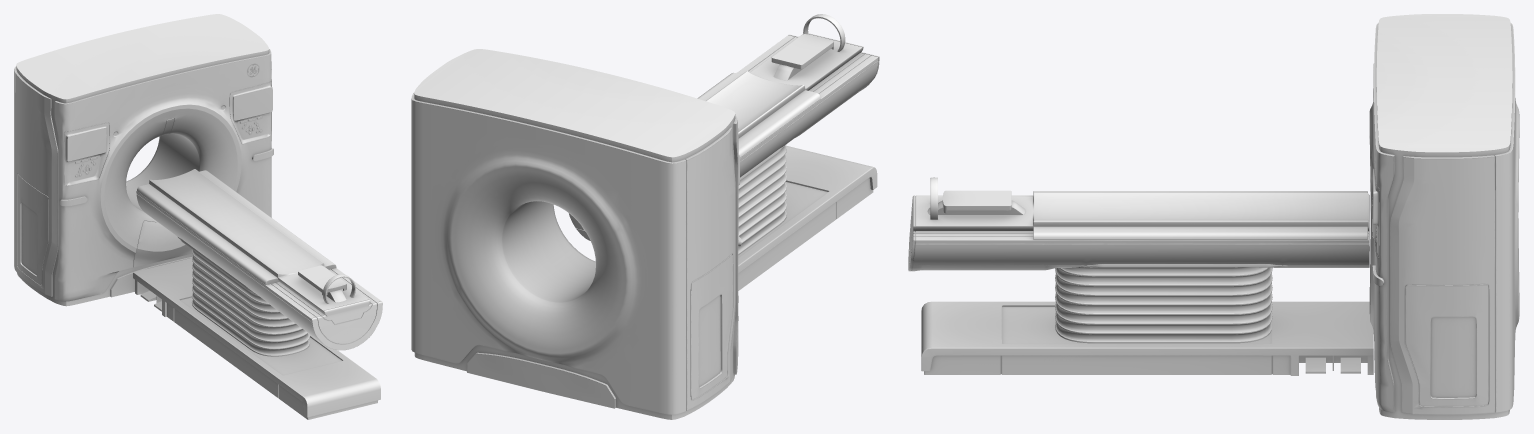
Rendered from GERevolutionApexCTMachine_FORCAROUSEL_.gltf.
3 views of the same model, side by side, from view 1: azimuth 30°, elevation 25°; view 2: azimuth 150°, elevation 25°; view 3: azimuth 270°, elevation 25° (orthographic). The views are drawn at different scales.
Parts seen in each view (by area): view 1: SM_GERevolutionApexCTMachine_FORCAROUSEL_; view 2: SM_GERevolutionApexCTMachine_FORCAROUSEL_; view 3: SM_GERevolutionApexCTMachine_FORCAROUSEL_.
Part boxes in pixels (x1=…): SM_GERevolutionApexCTMachine_FORCAROUSEL_: x1=14, y1=14, x2=382, y2=419; SM_GERevolutionApexCTMachine_FORCAROUSEL_: x1=411, y1=14, x2=879, y2=419; SM_GERevolutionApexCTMachine_FORCAROUSEL_: x1=908, y1=14, x2=1519, y2=419.
Bounding box in the file's own units: 2.37 × 2.16 × 4.35.
1 material, 1 textured.
